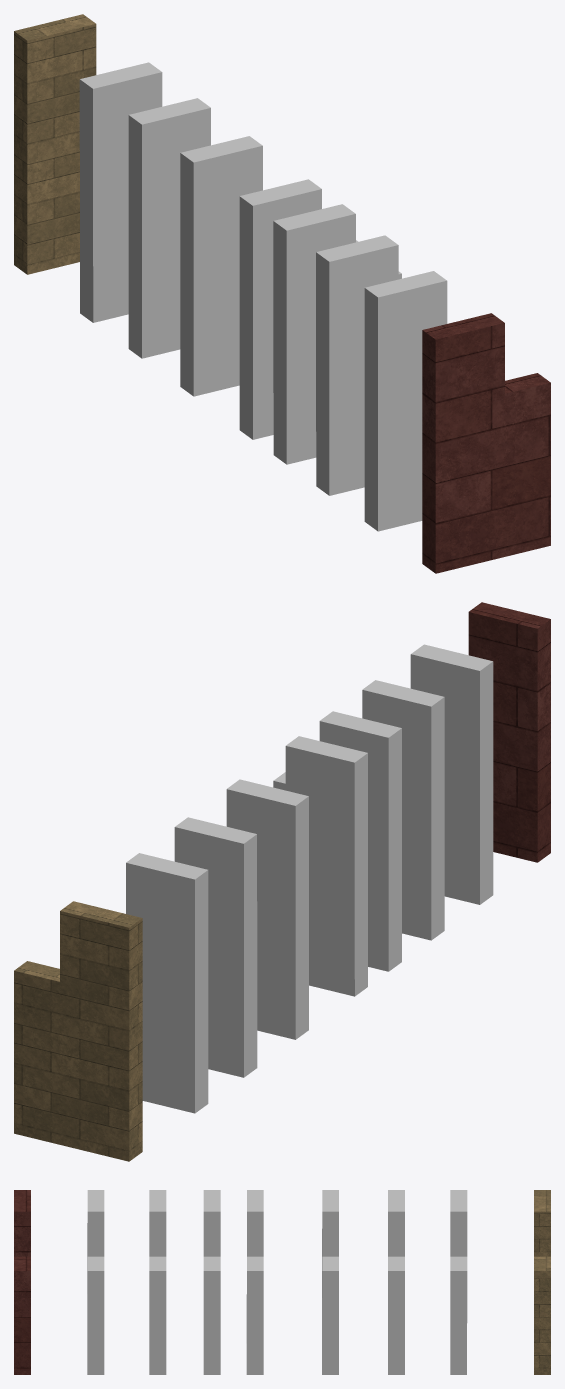
File: crenationSimple.fbx
3 views of the same model, one above another, from view 1: azimuth 30°, elevation 25°; view 2: azimuth 150°, elevation 25°; view 3: azimuth 270°, elevation 25° (orthographic). The views are drawn at different scales.
Parts seen in each view (by area): view 1: rampart_redStone_wasr, rampart_sandStone_wasr, rampart_browMonastery_wasr, rampart_purpleMonastery_wasr, rampart_blueMonastery_wasr, rampart_whiteChalk_wasr, rampart_wasr, rampart_giantGate_wasr, rampart_cream_wasr; view 2: rampart_sandStone_wasr, rampart_whiteChalk_wasr, rampart_cream_wasr, rampart_redStone_wasr, rampart_browMonastery_wasr, rampart_purpleMonastery_wasr, rampart_blueMonastery_wasr, rampart_wasr, rampart_giantGate_wasr; view 3: rampart_wasr, rampart_purpleMonastery_wasr, rampart_giantGate_wasr, rampart_whiteChalk_wasr, rampart_cream_wasr, rampart_browMonastery_wasr, rampart_blueMonastery_wasr, rampart_redStone_wasr, rampart_sandStone_wasr.
Boxes of the visible parts, box(x1,y1,x2,y2) form: rampart_redStone_wasr: box(422, 313, 550, 573); rampart_sandStone_wasr: box(14, 14, 96, 274); rampart_browMonastery_wasr: box(180, 136, 262, 396); rampart_purpleMonastery_wasr: box(364, 271, 447, 531); rampart_blueMonastery_wasr: box(128, 98, 210, 358); rampart_whiteChalk_wasr: box(79, 62, 162, 322); rampart_wasr: box(316, 235, 398, 495); rampart_giantGate_wasr: box(273, 204, 401, 464); rampart_cream_wasr: box(239, 179, 358, 439); rampart_sandStone_wasr: box(14, 901, 142, 1161); rampart_whiteChalk_wasr: box(126, 853, 208, 1113); rampart_cream_wasr: box(285, 736, 367, 996); rampart_redStone_wasr: box(468, 602, 550, 862); rampart_browMonastery_wasr: box(226, 779, 308, 1039); rampart_purpleMonastery_wasr: box(410, 644, 493, 904); rampart_blueMonastery_wasr: box(174, 817, 257, 1077); rampart_wasr: box(362, 680, 444, 940); rampart_giantGate_wasr: box(273, 711, 401, 971); rampart_wasr: box(149, 1190, 166, 1374); rampart_purpleMonastery_wasr: box(87, 1190, 104, 1374); rampart_giantGate_wasr: box(203, 1190, 220, 1374); rampart_whiteChalk_wasr: box(450, 1190, 467, 1374); rampart_cream_wasr: box(246, 1190, 263, 1374); rampart_browMonastery_wasr: box(322, 1190, 338, 1374); rampart_blueMonastery_wasr: box(388, 1190, 404, 1374); rampart_redStone_wasr: box(14, 1190, 30, 1374); rampart_sandStone_wasr: box(534, 1190, 550, 1374).
Bounding box in the file's own units: 180 × 349 × 1139.
